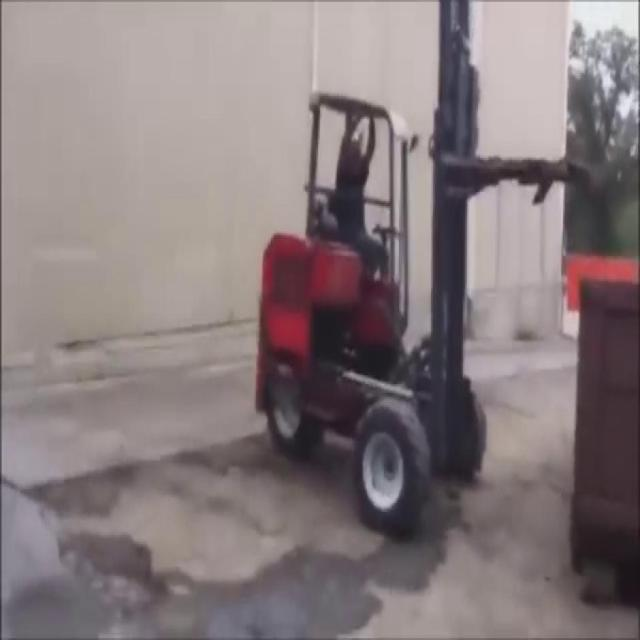forklift: (252, 66, 578, 541)
person: (330, 114, 393, 300)
